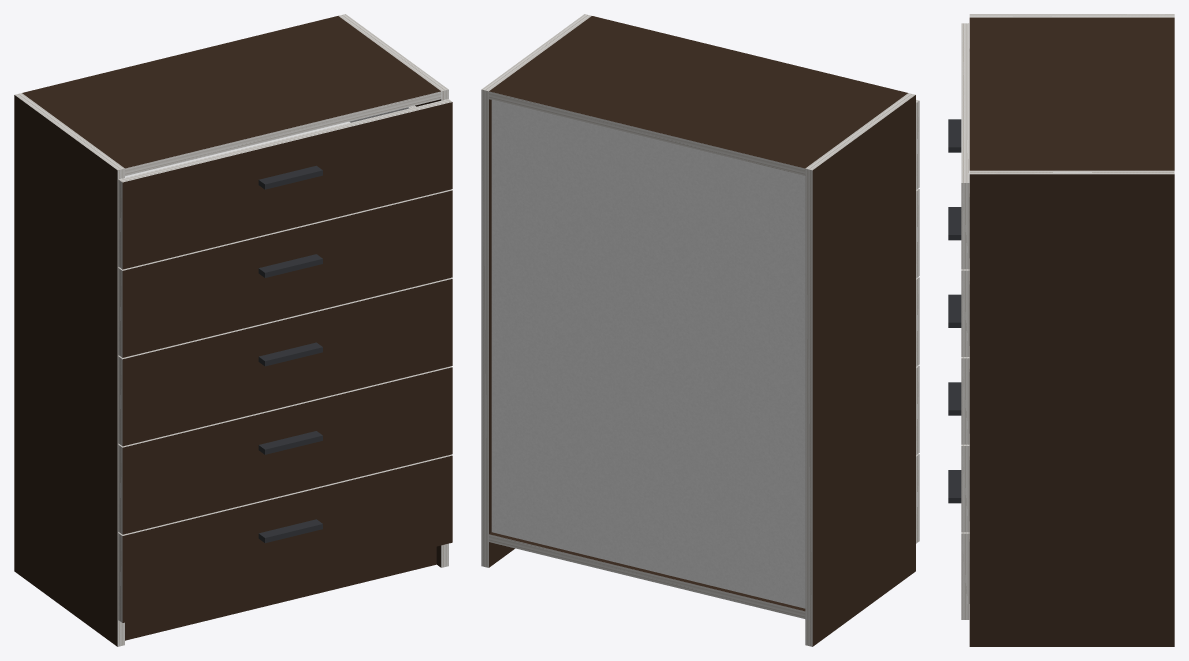
Rendered from BIB-CHT-tall.glb.
3 views of the same model, side by side, from view 1: azimuth 30°, elevation 25°; view 2: azimuth 150°, elevation 25°; view 3: azimuth 270°, elevation 25° (orthographic).
Visible parts, largest first — view 1: side-l:pbr, top:pbr, d2-front:pbr, d4-front:pbr, d1-front:pbr, d3-front:pbr, d5-front:pbr, plinth:pbr, pull, top:sheet:eyJtIjoicGx5Iiwic2lkZSI6ImVkZ2UtbG9uZyIsInNlZWQiOj, d5-front:sheet:eyJtIjoicGx5Iiwic2lkZSI6ImVkZ2UtbG9uZyIsInNlZ, side-l:sheet:eyJtIjoicGx5Iiwic2lkZSI6ImVkZ2UtbG9uZyIsInNlZWQ (+6 smaller); view 2: back:sheet:eyJtIjoibWRmIiwic2lkZSI6ImZhY2UiLCJzZWVkIjo0LCJ0a, side-l:pbr, top:pbr, side-r:sheet:eyJtIjoicGx5Iiwic2lkZSI6ImVkZ2UtbG9uZyIsInNlZWQ, side-l:sheet:eyJtIjoicGx5Iiwic2lkZSI6ImVkZ2UtbG9uZyIsInNlZWQ, top:sheet:eyJtIjoicGx5Iiwic2lkZSI6ImVkZ2UtbG9uZyIsInNlZWQiOj, bottom:sheet:eyJtIjoicGx5Iiwic2lkZSI6ImVkZ2UtbG9uZyIsInNlZWQ, side-r:pbr, bottom:pbr, side-r:sheet:eyJtIjoicGx5Iiwic2lkZSI6ImVkZ2UtZW5kIiwic2VlZCI, side-l:sheet:eyJtIjoicGx5Iiwic2lkZSI6ImVkZ2UtZW5kIiwic2VlZCI; view 3: side-r:pbr, top:pbr, pull, d5-front:sheet:eyJtIjoicGx5Iiwic2lkZSI6ImVkZ2UtbG9uZyIsInNlZ, side-r:sheet:eyJtIjoicGx5Iiwic2lkZSI6ImVkZ2UtZW5kIiwic2VlZCI, side-l:sheet:eyJtIjoicGx5Iiwic2lkZSI6ImVkZ2UtZW5kIiwic2VlZCI, d3-front:sheet:eyJtIjoicGx5Iiwic2lkZSI6ImVkZ2UtZW5kIiwic2VlZ, d1-front:sheet:eyJtIjoicGx5Iiwic2lkZSI6ImVkZ2UtZW5kIiwic2VlZ, d2-front:sheet:eyJtIjoicGx5Iiwic2lkZSI6ImVkZ2UtZW5kIiwic2VlZ, d4-front:sheet:eyJtIjoicGx5Iiwic2lkZSI6ImVkZ2UtZW5kIiwic2VlZ, d5-front:sheet:eyJtIjoicGx5Iiwic2lkZSI6ImVkZ2UtZW5kIiwic2VlZ.
Part boxes in pixels (x1,y1,x2,y2): side-l:pbr: (14, 95, 117, 646); top:pbr: (22, 16, 440, 168); d2-front:pbr: (122, 367, 452, 534); d4-front:pbr: (122, 190, 452, 357); d1-front:pbr: (122, 455, 452, 622); d3-front:pbr: (122, 279, 452, 446); d5-front:pbr: (122, 102, 452, 269); plinth:pbr: (125, 546, 436, 640); pull: (258, 165, 322, 543); top:sheet:eyJtIjoicGx5Iiwic2lkZSI6ImVkZ2UtbG9uZyIsInNlZWQiOj: (125, 91, 441, 176); d5-front:sheet:eyJtIjoicGx5Iiwic2lkZSI6ImVkZ2UtbG9uZyIsInNlZ: (118, 99, 451, 182); side-l:sheet:eyJtIjoicGx5Iiwic2lkZSI6ImVkZ2UtbG9uZyIsInNlZWQ: (117, 168, 124, 646); back:sheet:eyJtIjoibWRmIiwic2lkZSI6ImZhY2UiLCJzZWVkIjo0LCJ0a: (491, 100, 805, 608); side-l:pbr: (812, 95, 915, 646); top:pbr: (489, 16, 907, 168); side-r:sheet:eyJtIjoicGx5Iiwic2lkZSI6ImVkZ2UtbG9uZyIsInNlZWQ: (481, 89, 488, 567); side-l:sheet:eyJtIjoicGx5Iiwic2lkZSI6ImVkZ2UtbG9uZyIsInNlZWQ: (805, 168, 812, 646); top:sheet:eyJtIjoicGx5Iiwic2lkZSI6ImVkZ2UtbG9uZyIsInNlZWQiOj: (489, 91, 805, 176); bottom:sheet:eyJtIjoicGx5Iiwic2lkZSI6ImVkZ2UtbG9uZyIsInNlZWQ: (489, 534, 805, 618); side-r:pbr: (489, 99, 514, 567); bottom:pbr: (489, 532, 805, 611); side-r:sheet:eyJtIjoicGx5Iiwic2lkZSI6ImVkZ2UtZW5kIiwic2VlZCI: (481, 14, 591, 91); side-l:sheet:eyJtIjoicGx5Iiwic2lkZSI6ImVkZ2UtZW5kIiwic2VlZCI: (805, 93, 915, 170); side-r:pbr: (969, 174, 1174, 646); top:pbr: (969, 17, 1174, 170); pull: (948, 119, 961, 503); d5-front:sheet:eyJtIjoicGx5Iiwic2lkZSI6ImVkZ2UtbG9uZyIsInNlZ: (961, 23, 969, 182); side-r:sheet:eyJtIjoicGx5Iiwic2lkZSI6ImVkZ2UtZW5kIiwic2VlZCI: (969, 170, 1174, 174); side-l:sheet:eyJtIjoicGx5Iiwic2lkZSI6ImVkZ2UtZW5kIiwic2VlZCI: (969, 14, 1174, 17); d3-front:sheet:eyJtIjoicGx5Iiwic2lkZSI6ImVkZ2UtZW5kIiwic2VlZ: (961, 358, 969, 444); d1-front:sheet:eyJtIjoicGx5Iiwic2lkZSI6ImVkZ2UtZW5kIiwic2VlZ: (961, 533, 969, 619); d2-front:sheet:eyJtIjoicGx5Iiwic2lkZSI6ImVkZ2UtZW5kIiwic2VlZ: (961, 446, 969, 532); d4-front:sheet:eyJtIjoicGx5Iiwic2lkZSI6ImVkZ2UtZW5kIiwic2VlZ: (961, 270, 969, 356); d5-front:sheet:eyJtIjoicGx5Iiwic2lkZSI6ImVkZ2UtZW5kIiwic2VlZ: (961, 183, 969, 269).
Size of the model in its own units: 0.8 by 1.1 by 0.4769.
Materials: 109 (98 with a texture image).
